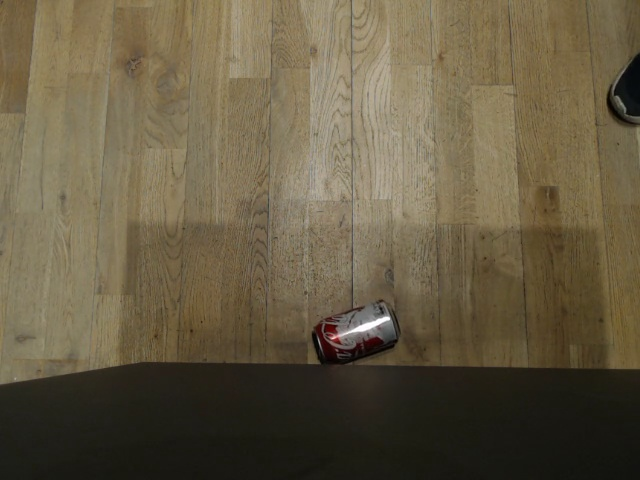cola: (311, 296, 403, 366)
